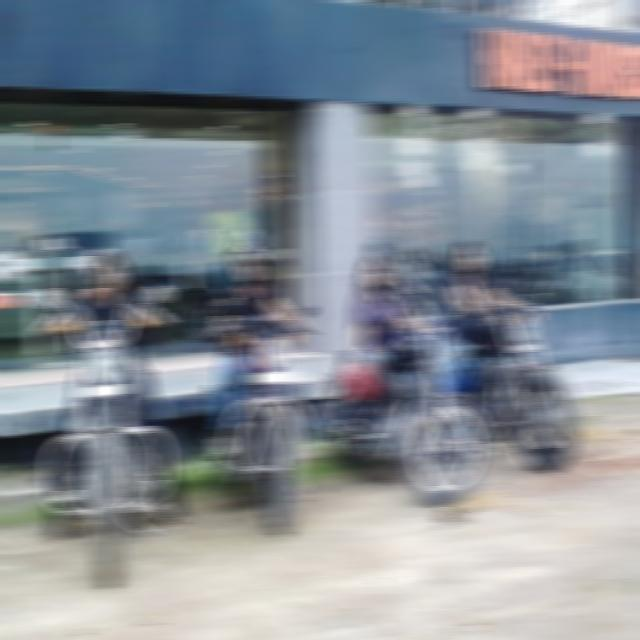With Helmet: (224, 234, 272, 293)
Without Helmet: (86, 241, 134, 298), (358, 244, 395, 295), (452, 229, 488, 276)
